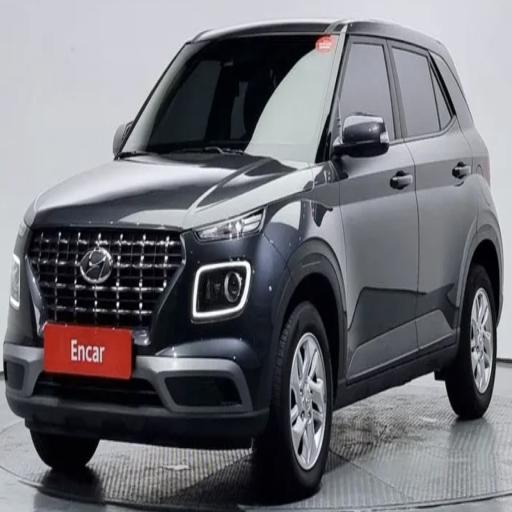normal: (11, 12, 507, 499)
